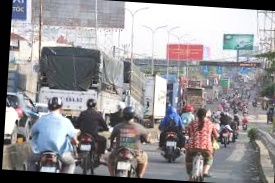Bien-so: (125, 170, 140, 181), (88, 157, 98, 166), (170, 142, 180, 149)
